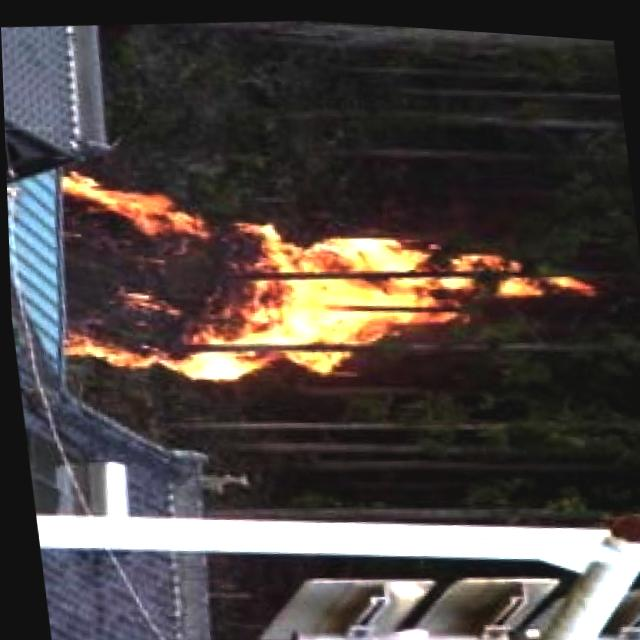Fire: (44, 136, 606, 410)
